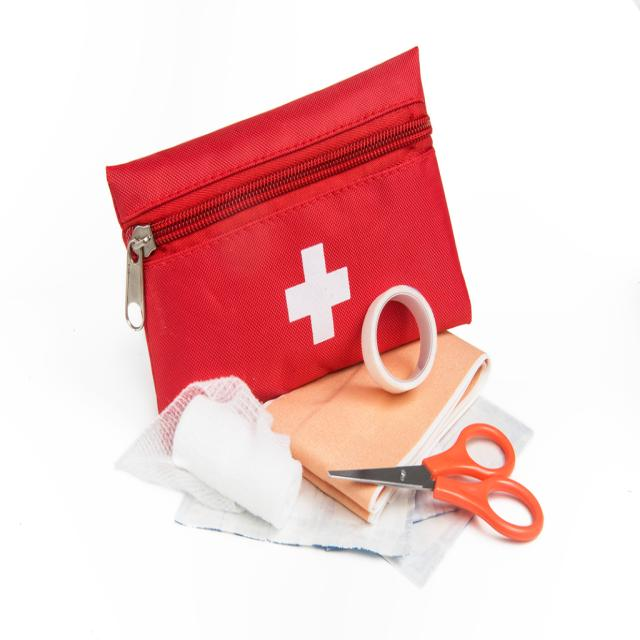scissors: (327, 422, 543, 542)
